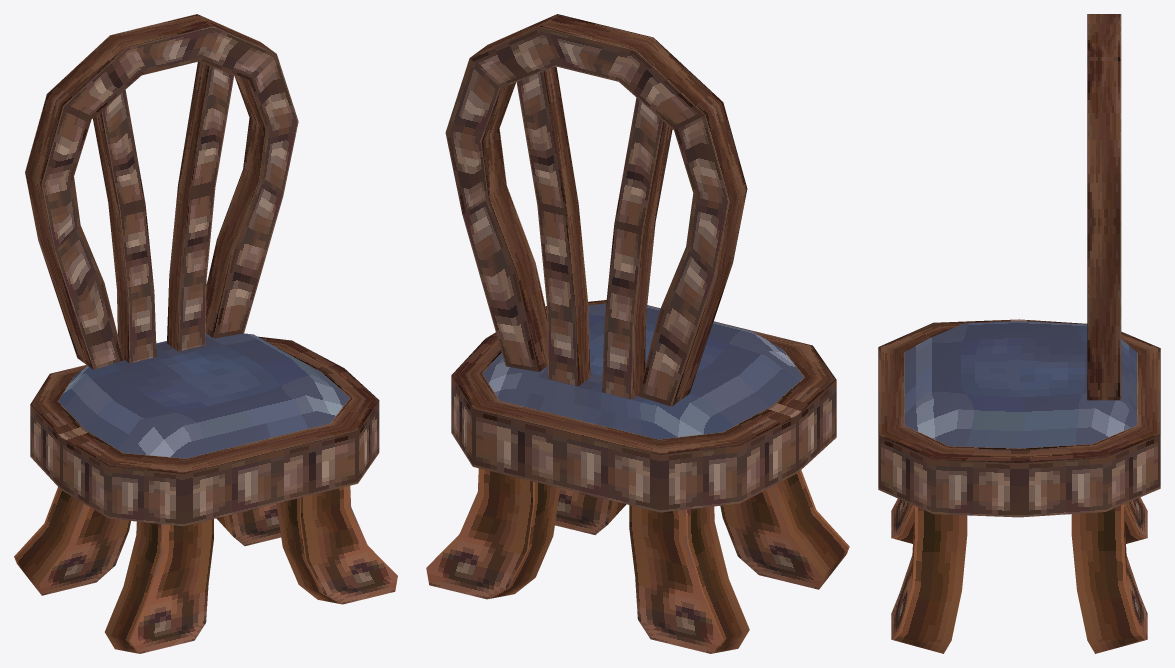
3 renders of one model, left to right at view 1: azimuth 30°, elevation 25°; view 2: azimuth 150°, elevation 25°; view 3: azimuth 270°, elevation 25°, orthographic. The views are drawn at different scales.
Visible parts, largest first — view 1: o_i_ao; view 2: o_i_ao; view 3: o_i_ao.
Part boxes in pixels (x1,y1,x2,y2): o_i_ao: [14, 14, 397, 653]; o_i_ao: [426, 14, 849, 653]; o_i_ao: [878, 14, 1160, 653].
Bounding box in the file's own units: 130 × 233 × 108.
3 materials, 3 textured.
